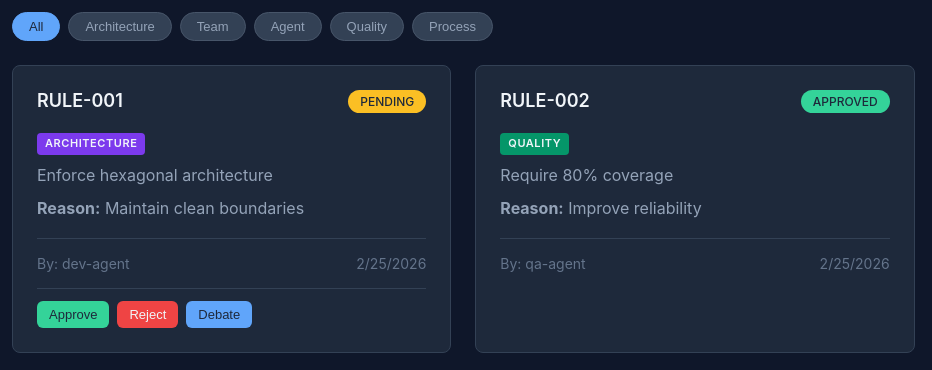
RuleProposalsView › should filter proposals by type when filter button clicked
The image size is (932, 370).
Check: the heading "RULE-001" is shown, box x1=37 y1=90 x2=123 y2=111
Check: the heading "RULE-002" is shown, box x1=500 y1=90 x2=590 y2=111
Click the button "architecture": {"x": 120, "y": 26} x1=68 y1=12 x2=172 y2=41
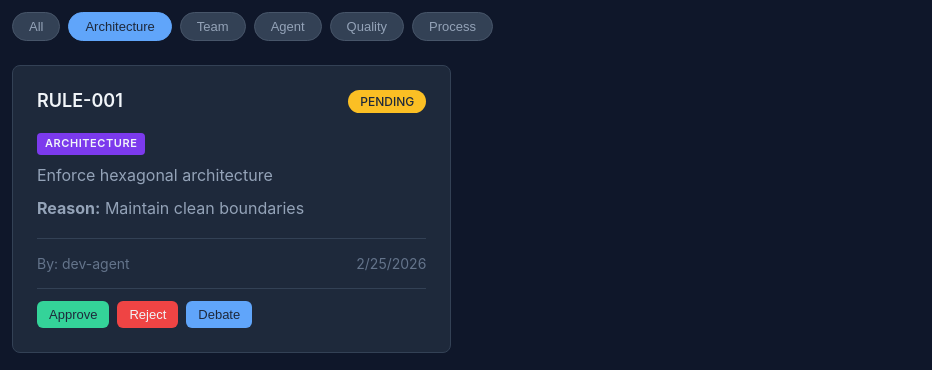
Check: the heading "RULE-001" is shown, box x1=37 y1=90 x2=123 y2=111
Check: the heading "RULE-002" is gone
